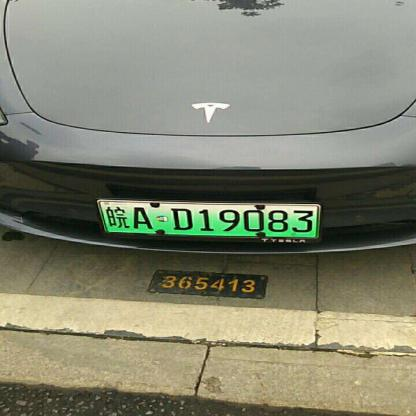lp: (97, 199, 318, 236)
